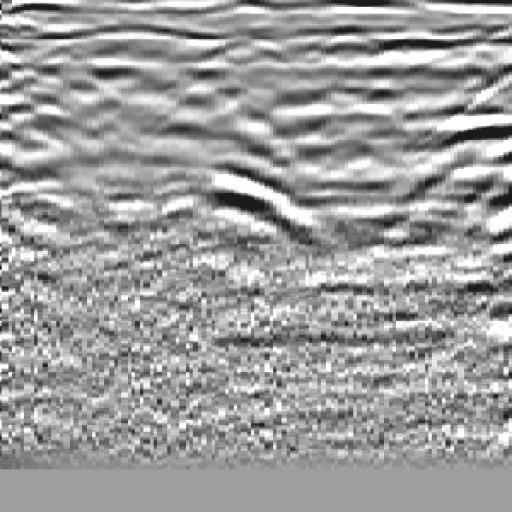metalic: (155, 46, 324, 279)
nonmetalic: (389, 46, 512, 276)
